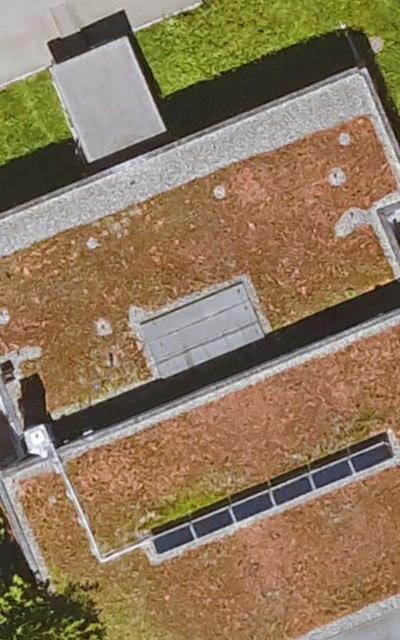tree: (1, 582, 108, 640)
